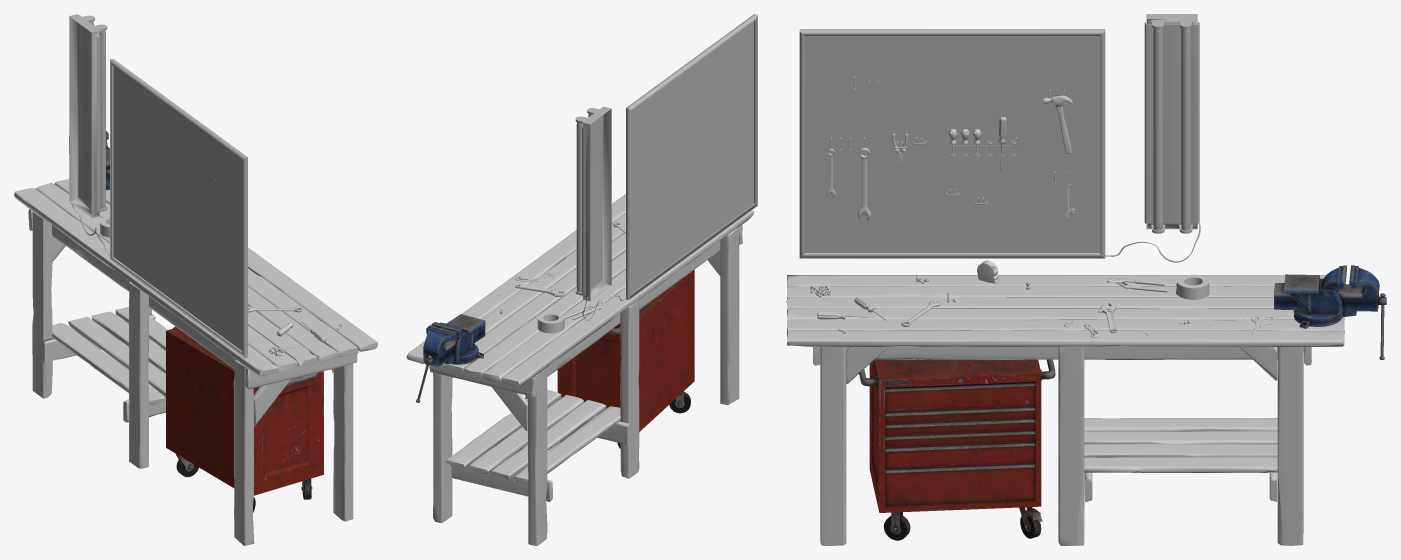
Rendered from WorkbenchCut - Copy.fbx.
3 renders of one model, left to right at view 1: azimuth 30°, elevation 25°; view 2: azimuth 150°, elevation 25°; view 3: azimuth 270°, elevation 25°, orthographic. The views are drawn at different scales.
Parts seen in each view (by area): view 1: Pegboard_Sheet_low, Tool_Cabinet_Body_low, Workbench_Group_5_low, Workbench_Group_2_low, Workbench_Group_1_low, Pegboard_Frame_low, Workbench_Group_3_low, Light_Fixture_Base_low, Light_Fixture_Plate_low, Workbench_Group_4_low, Light_Fixture_Bulbs_low; view 2: Pegboard_Sheet_low, Workbench_Group_5_low, Workbench_Group_2_low, Workbench_Group_1_low, Tool_Cabinet_Body_low, Workbench_Group_3_low, Pegboard_Frame_low, Light_Fixture_Base_low, Light_Fixture_Plate_low, Vice_Base_low, Vice_Slide_low, Light_Fixture_Bulbs_low (+2 smaller); view 3: Pegboard_Sheet_low, Workbench_Group_1_low, Workbench_Group_2_low, Workbench_Group_5_low, Tool_Cabinet_Drawers_low, Tool_Cabinet_Body_low, Light_Fixture_Plate_low, Pegboard_Frame_low, Workbench_Group_3_low, Light_Fixture_Bulbs_low, Tool_Cabinet_Handles_low, Vice_Base_low (+3 smaller).
Part boxes in pixels (box(x1,y1,x2,y2)): Pegboard_Sheet_low: box(113, 66, 242, 350); Tool_Cabinet_Body_low: box(166, 327, 323, 495); Workbench_Group_5_low: box(32, 212, 353, 545); Workbench_Group_2_low: box(14, 179, 358, 405); Workbench_Group_1_low: box(35, 182, 377, 396); Pegboard_Frame_low: box(110, 58, 247, 358); Workbench_Group_3_low: box(41, 224, 291, 426); Light_Fixture_Base_low: box(69, 16, 99, 217); Light_Fixture_Plate_low: box(79, 24, 100, 212); Workbench_Group_4_low: box(28, 209, 357, 389); Light_Fixture_Bulbs_low: box(90, 21, 105, 208); Pegboard_Sheet_low: box(631, 21, 753, 292); Workbench_Group_5_low: box(433, 227, 739, 545); Workbench_Group_2_low: box(429, 210, 753, 484); Workbench_Group_1_low: box(406, 194, 625, 479); Tool_Cabinet_Body_low: box(557, 270, 694, 431); Workbench_Group_3_low: box(451, 241, 720, 501); Pegboard_Frame_low: box(626, 14, 757, 299); Light_Fixture_Base_low: box(583, 109, 611, 300); Light_Fixture_Plate_low: box(582, 116, 602, 295); Vice_Base_low: box(431, 314, 485, 364); Vice_Slide_low: box(423, 321, 485, 366); Light_Fixture_Bulbs_low: box(576, 114, 591, 292); Pegboard_Sheet_low: box(804, 36, 1100, 252); Workbench_Group_1_low: box(787, 286, 1344, 472); Workbench_Group_2_low: box(786, 275, 1344, 457); Workbench_Group_5_low: box(820, 346, 1303, 545); Tool_Cabinet_Drawers_low: box(885, 381, 1035, 506); Tool_Cabinet_Body_low: box(869, 359, 1041, 512); Light_Fixture_Plate_low: box(1144, 22, 1199, 223); Pegboard_Frame_low: box(799, 29, 1105, 258); Workbench_Group_3_low: box(846, 345, 1303, 502); Light_Fixture_Bulbs_low: box(1153, 28, 1190, 230); Tool_Cabinet_Handles_low: box(859, 359, 1055, 473); Vice_Base_low: box(1284, 265, 1356, 328).
Size of the model in its own units: 66.23 by 202 by 236.
